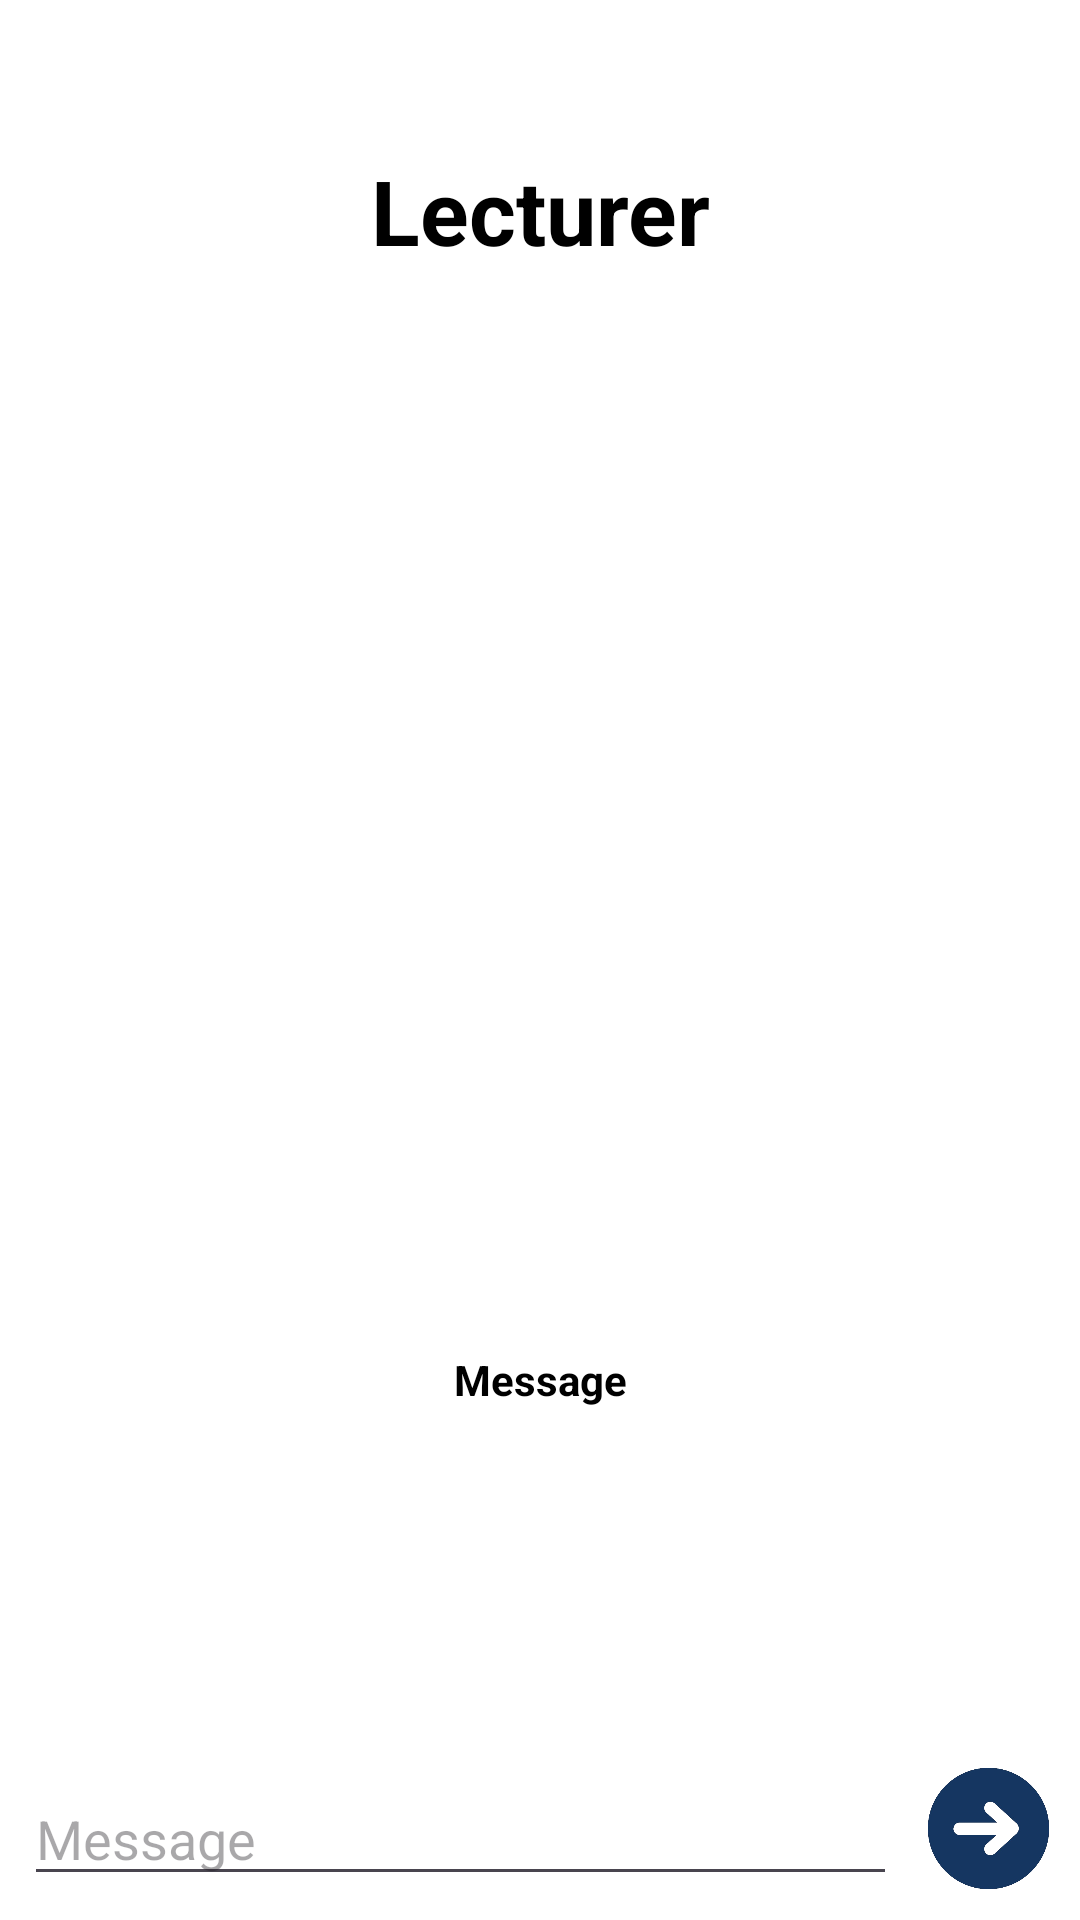

Named icons in this screenshot (1080px x 1920px) and their centers, (x,y):
bluebutton: (988,1828)
